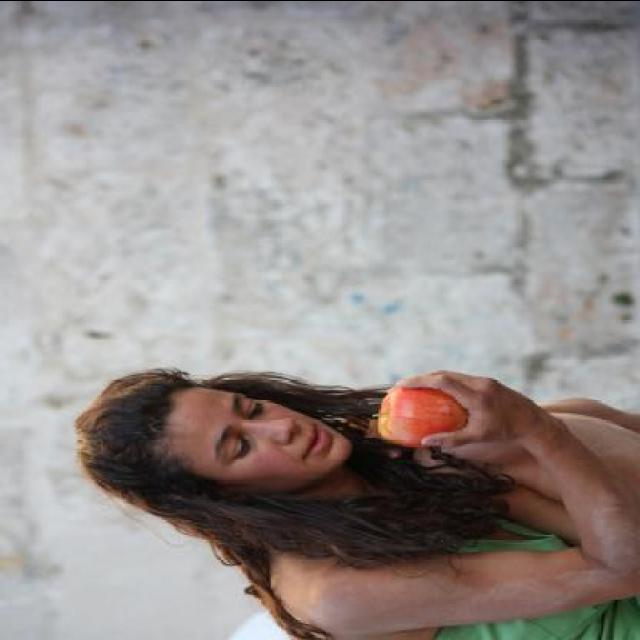Apple pie: (379, 380, 483, 456)
